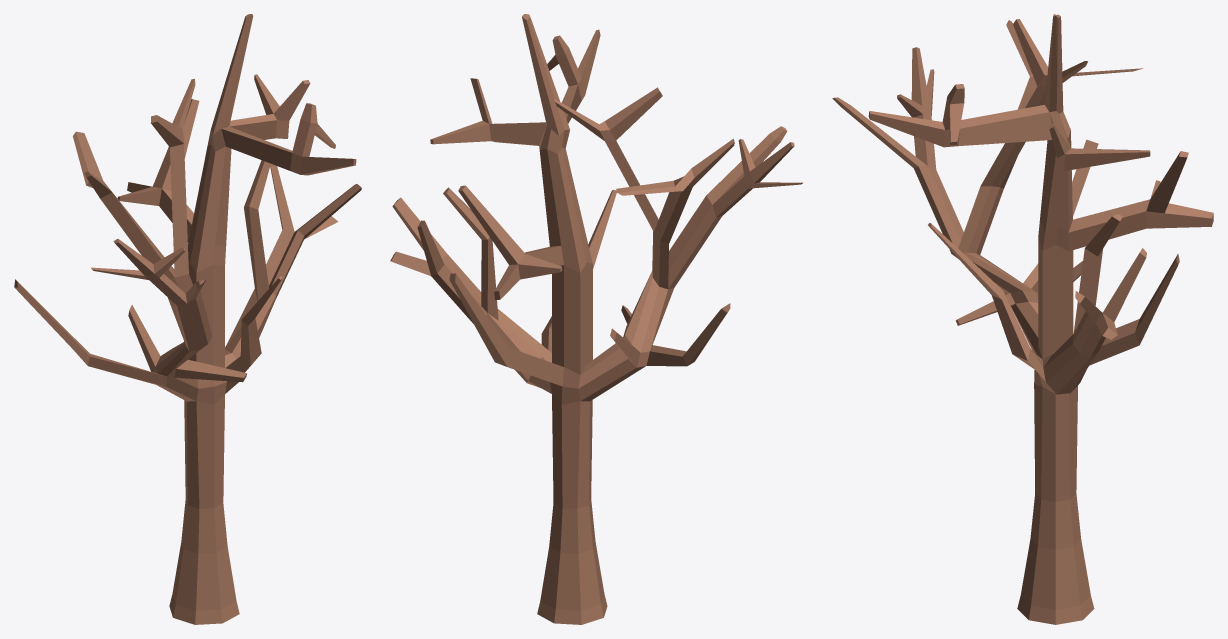
File: DeadTree_02.fbx
3 renders of one model, left to right at view 1: azimuth 30°, elevation 25°; view 2: azimuth 150°, elevation 25°; view 3: azimuth 270°, elevation 25°, orthographic. The views are drawn at different scales.
Parts seen in each view (by area): view 1: Cylinder; view 2: Cylinder; view 3: Cylinder.
Boxes of the visible parts, x1,y1,x2,y2 form: Cylinder: (14,14,361,624); Cylinder: (390,14,802,624); Cylinder: (832,14,1213,624).
Bounding box in the file's own units: 345 × 564 × 316.
